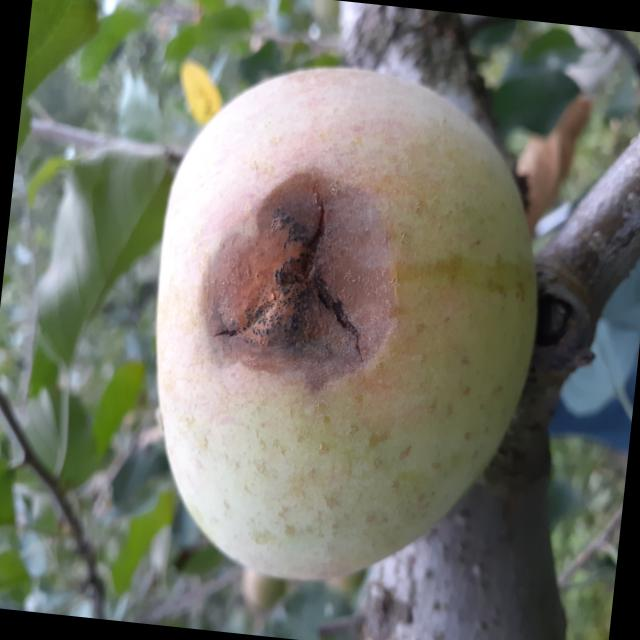rotten: (116, 37, 570, 613)
